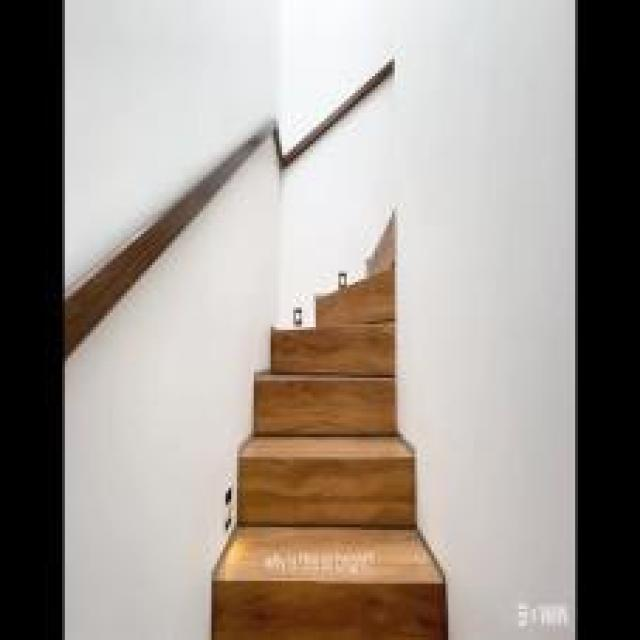upstair: (235, 286, 421, 517)
